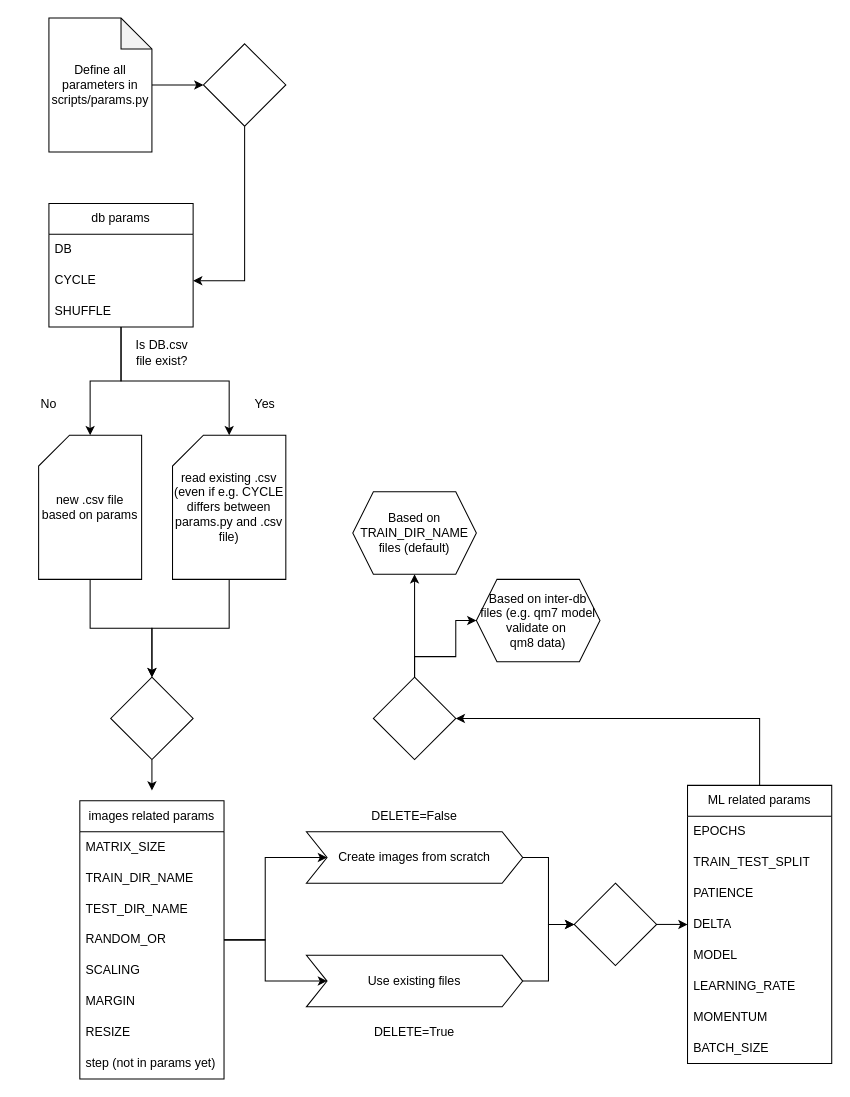
Image size: 850x1097. Some labels were removed from this diagram. Each missing label, with the centre of its shape:
Create a database: the point at 244,84
Create images: the point at 151,718
Train model: the point at 615,924
Validate model: the point at 414,718
